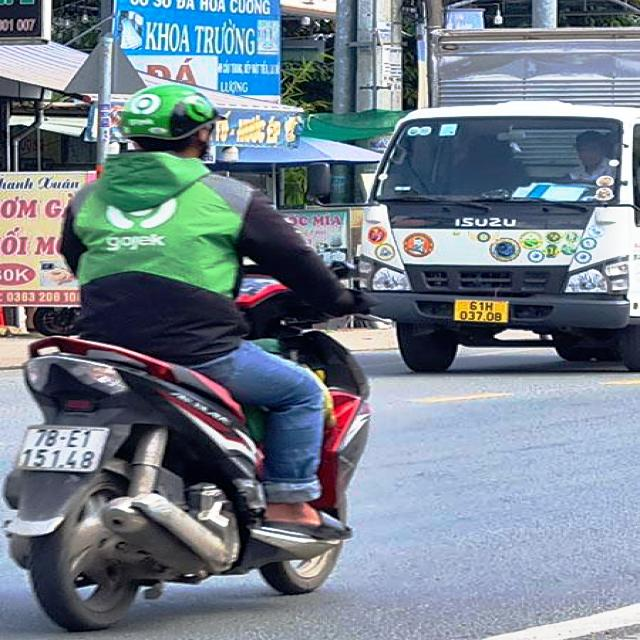license_plate: (14, 426, 113, 475)
